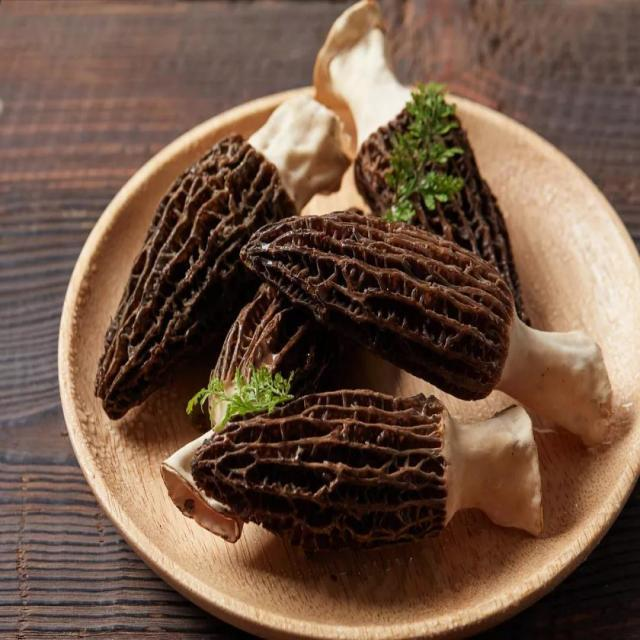Morchella esculenta: (238, 209, 611, 446), (92, 93, 352, 422), (316, 0, 532, 321), (199, 390, 543, 544)
